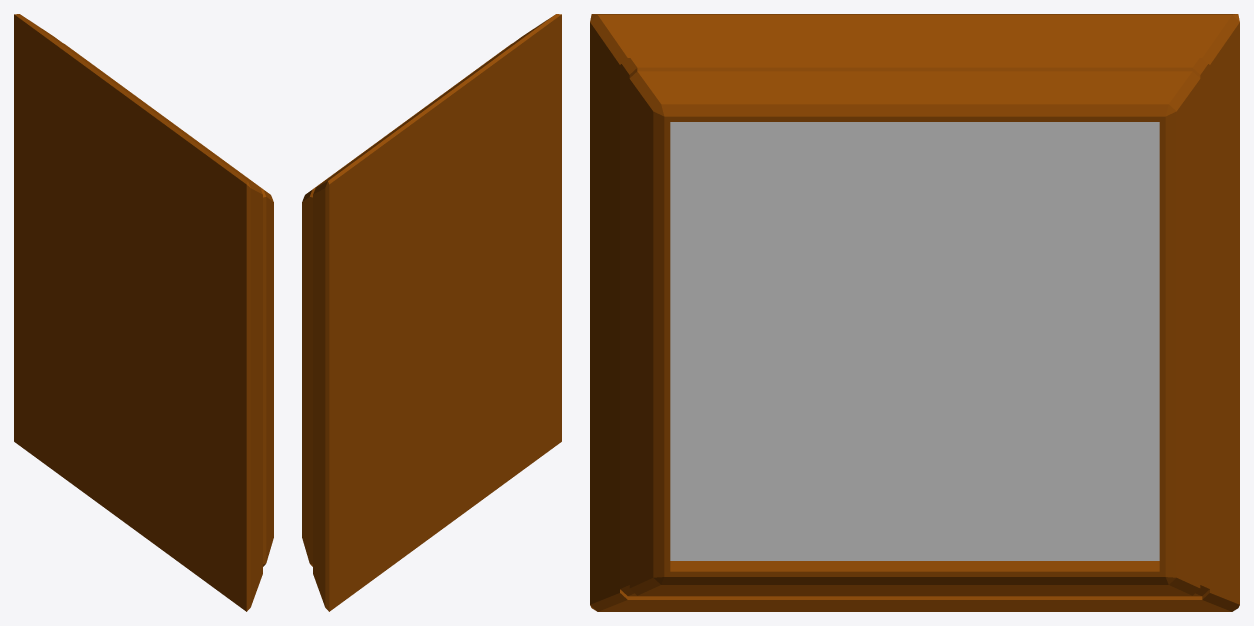
Rendered from Image_X.glb.
3 views of the same model, side by side, from view 1: azimuth 30°, elevation 25°; view 2: azimuth 150°, elevation 25°; view 3: azimuth 270°, elevation 25° (orthographic). The views are drawn at different scales.
Visible parts, largest first — view 1: Plane; view 2: Plane; view 3: Plane.
Boxes of the visible parts, x1=… form: Plane: x1=14, y1=14, x2=273, y2=611; Plane: x1=302, y1=14, x2=561, y2=611; Plane: x1=590, y1=14, x2=1239, y2=611.
Bounding box in the file's own units: 0.0513 × 0.3996 × 0.3942.
